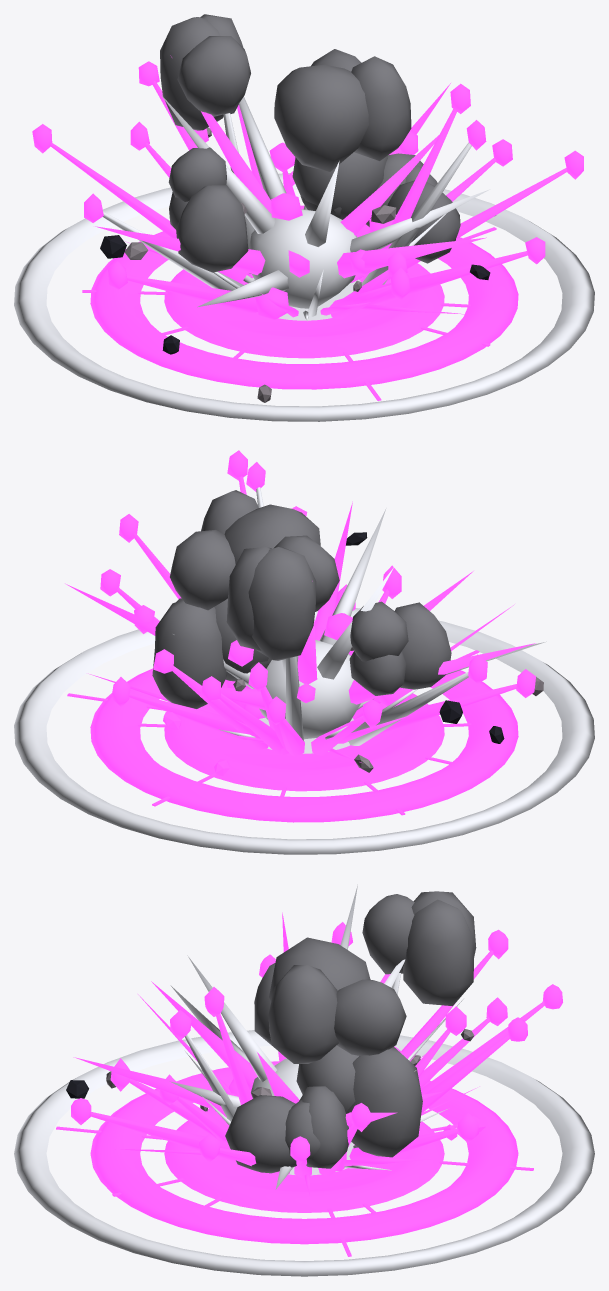
The model's file is PlasmaRifle_Impact.fbx.
3 views of the same model, one above another, from view 1: azimuth 30°, elevation 25°; view 2: azimuth 150°, elevation 25°; view 3: azimuth 270°, elevation 25° (orthographic).
Visible parts, largest first — view 1: Imp_Onda_pla, Imp_Humo_pla, Imp_Chispas_pla, Imp_Flash_pla, Imp_Crater_pla, Imp_Escombros_pla; view 2: Imp_Onda_pla, Imp_Humo_pla, Imp_Chispas_pla, Imp_Crater_pla, Imp_Flash_pla, Imp_Escombros_pla; view 3: Imp_Onda_pla, Imp_Humo_pla, Imp_Chispas_pla, Imp_Crater_pla, Imp_Flash_pla, Imp_Escombros_pla.
Part boxes in pixels (x1,y1,x2,y2): Imp_Onda_pla: (14,173,594,421); Imp_Humo_pla: (160,14,460,319); Imp_Chispas_pla: (32,61,583,321); Imp_Flash_pla: (95,55,496,308); Imp_Crater_pla: (82,227,496,400); Imp_Escombros_pla: (100,127,490,402); Imp_Onda_pla: (14,608,594,854); Imp_Humo_pla: (152,490,451,718); Imp_Chispas_pla: (88,450,535,762); Imp_Crater_pla: (67,650,479,815); Imp_Flash_pla: (65,501,546,739); Imp_Escombros_pla: (163,532,543,776); Imp_Onda_pla: (14,1030,594,1276); Imp_Humo_pla: (219,891,476,1173); Imp_Chispas_pla: (71,922,562,1195); Imp_Crater_pla: (56,1108,533,1256); Imp_Flash_pla: (73,884,442,1189); Imp_Escombros_pla: (66,1029,486,1140).
Size of the model in its own units: 45.5 by 21.53 by 45.5.
